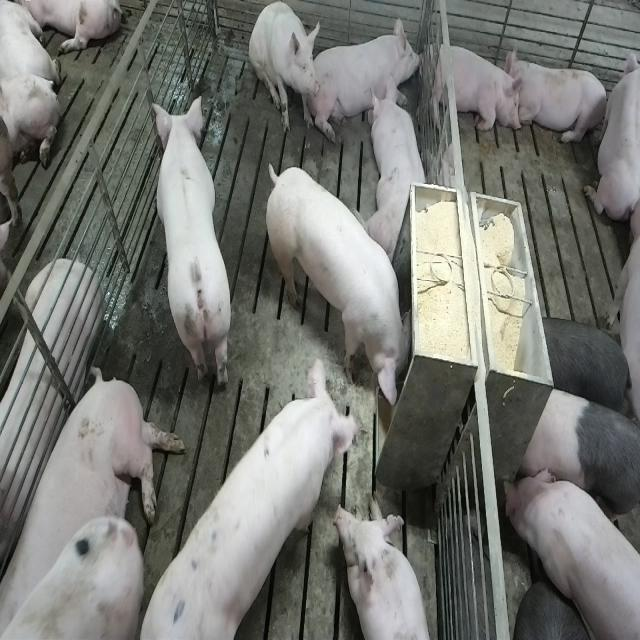Feeding: (271, 163, 419, 414)
Lateral_lying: (3, 362, 187, 634), (0, 258, 102, 579)
Sitting: (249, 3, 319, 136)
Standing: (136, 350, 363, 636), (3, 481, 162, 638), (151, 100, 233, 398), (502, 465, 638, 640), (516, 383, 638, 551), (536, 316, 635, 424)
Sternal_lying: (336, 499, 436, 640), (314, 12, 424, 139), (368, 78, 430, 259), (425, 37, 523, 138), (584, 39, 637, 224), (509, 51, 609, 149)
